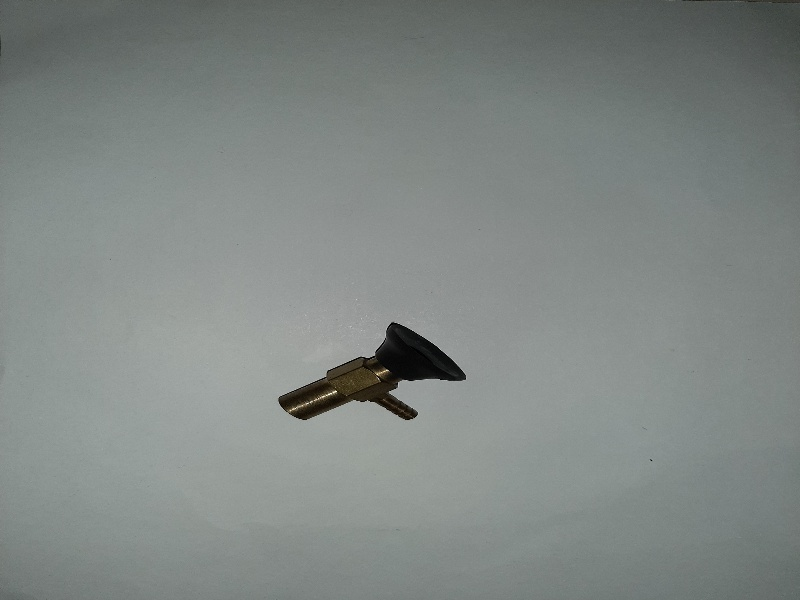Joint Hold: (280, 313, 469, 439)
